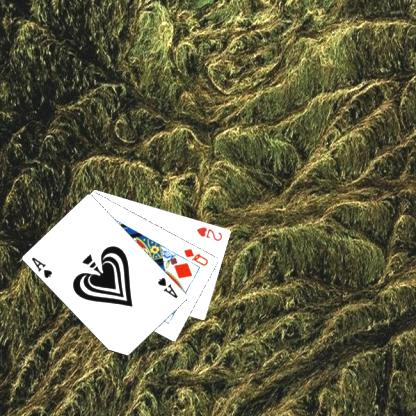2H: (194, 224, 224, 243)
AS: (29, 254, 54, 280), (155, 274, 179, 300)
QD: (181, 245, 210, 268)
